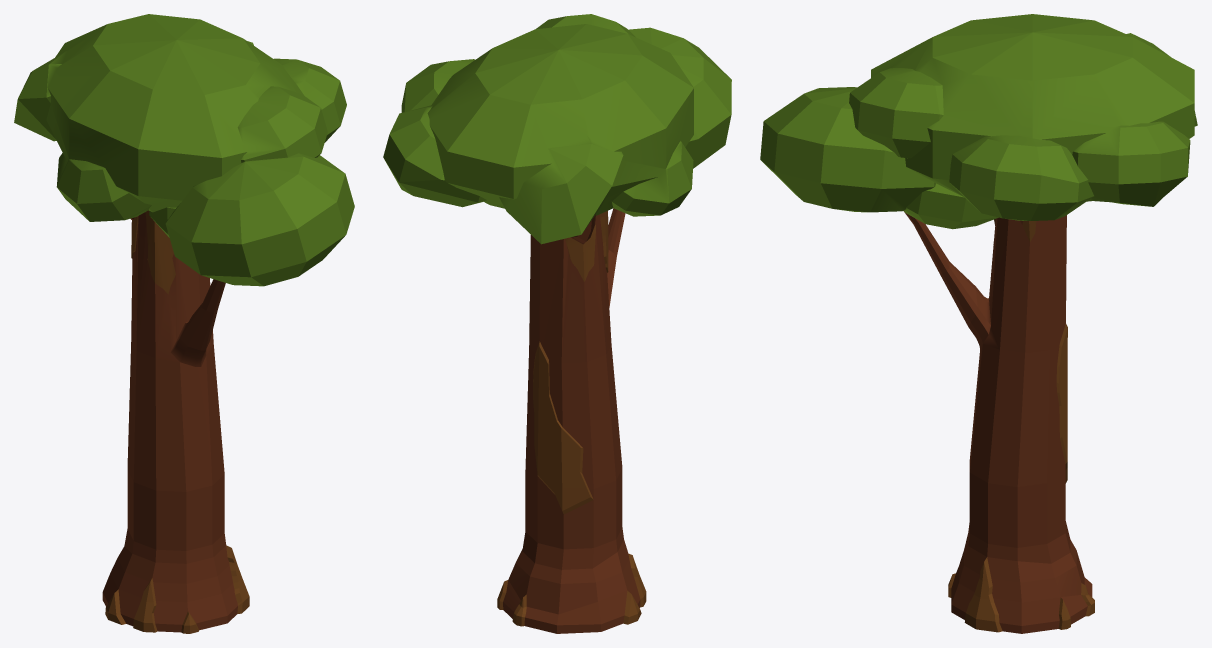
Rendered from Tree_A.fbx.
3 renders of one model, left to right at view 1: azimuth 30°, elevation 25°; view 2: azimuth 150°, elevation 25°; view 3: azimuth 270°, elevation 25°, orthographic. The views are drawn at different scales.
Visible parts, largest first — view 1: polySurface4; view 2: polySurface4; view 3: polySurface4.
Part boxes in pixels (x1,y1,x2,y2): polySurface4: (14, 14, 354, 633); polySurface4: (383, 14, 731, 633); polySurface4: (760, 14, 1197, 633).
Bounding box in the file's own units: 53.36 × 105 × 72.46.
